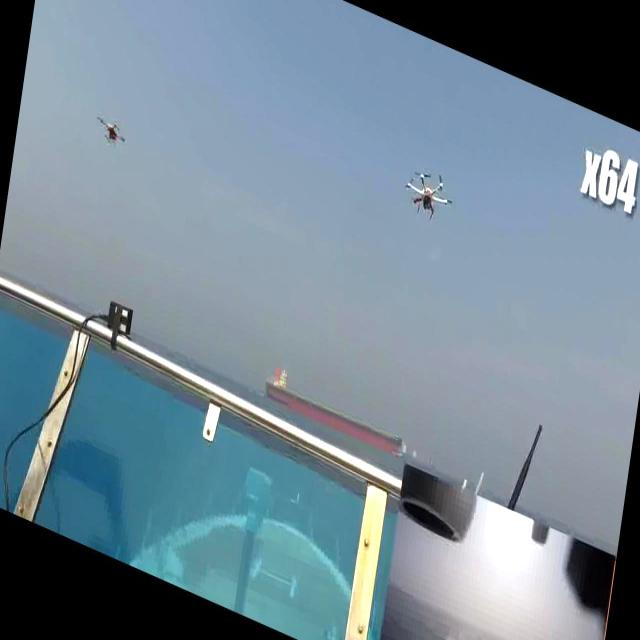drone: (397, 157, 459, 239), (95, 109, 132, 156)
